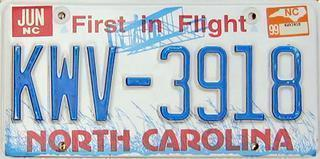placa de veiculo: (5, 2, 315, 156)
